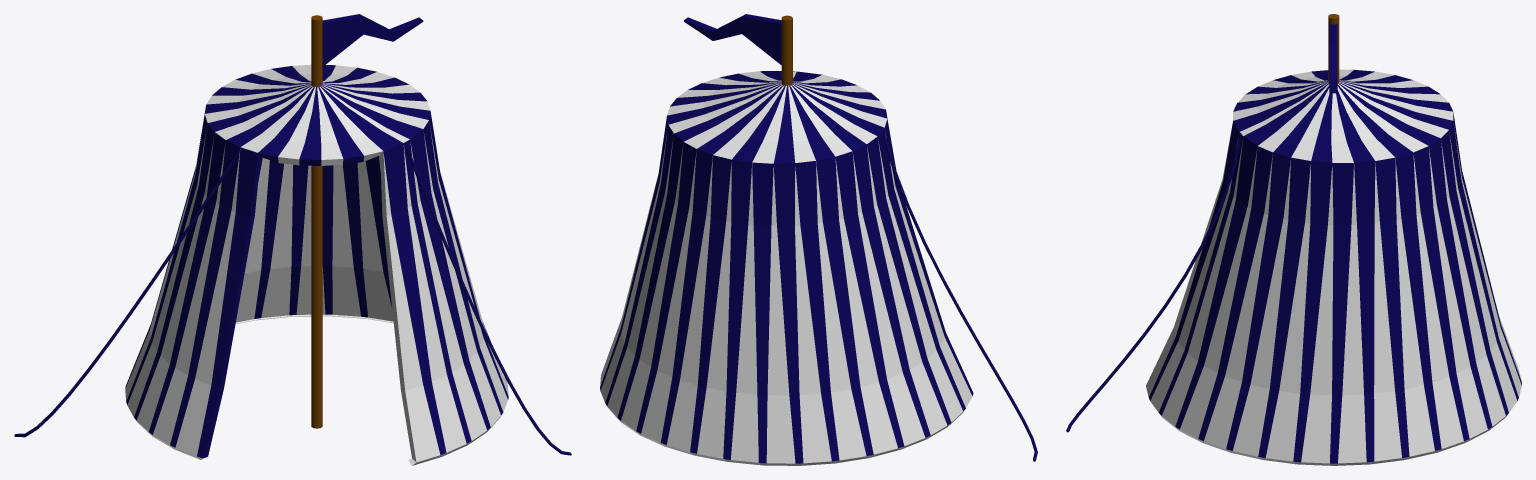
Rendered from Mid_Evil_Tent1.fbx.
3 renders of one model, left to right at view 1: azimuth 30°, elevation 25°; view 2: azimuth 150°, elevation 25°; view 3: azimuth 270°, elevation 25°, orthographic. The views are drawn at different scales.
Parts seen in each view (by area): view 1: Cone, Plane, BezierCurve, BezierCurve.001; view 2: Cone, Plane, BezierCurve; view 3: Cone, BezierCurve.001, Plane.
Part boxes in pixels (x1=…): Cone: x1=125, y1=15, x2=508, y2=465; Plane: x1=322, y1=14, x2=423, y2=66; BezierCurve: x1=14, y1=151, x2=238, y2=437; BezierCurve.001: x1=404, y1=142, x2=571, y2=455; Cone: x1=600, y1=15, x2=973, y2=465; Plane: x1=684, y1=14, x2=781, y2=64; BezierCurve: x1=884, y1=133, x2=1037, y2=461; Cone: x1=1146, y1=14, x2=1521, y2=465; BezierCurve.001: x1=1066, y1=133, x2=1241, y2=432; Plane: x1=1329, y1=23, x2=1337, y2=93.
Bounding box in the file's own units: 1170 × 1026 × 1060.
